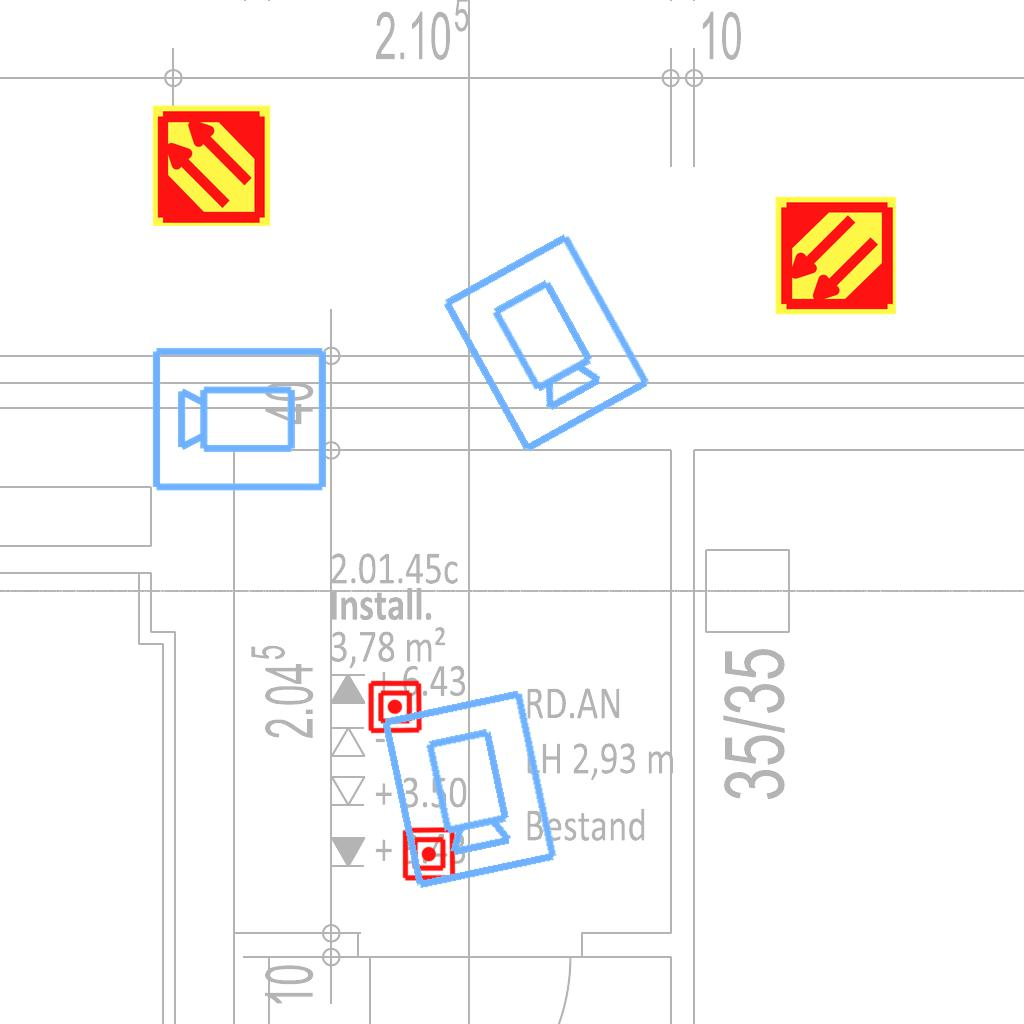ASR_Ansaugrauchmelder: (773, 193, 898, 318), (149, 103, 274, 228)
KFO_Kamera_mit_Festobjektiv: (433, 226, 657, 460), (373, 683, 563, 895), (149, 341, 331, 495)
NAM-Nichtautomatischer_Melder: (366, 678, 424, 736), (401, 826, 457, 882)
